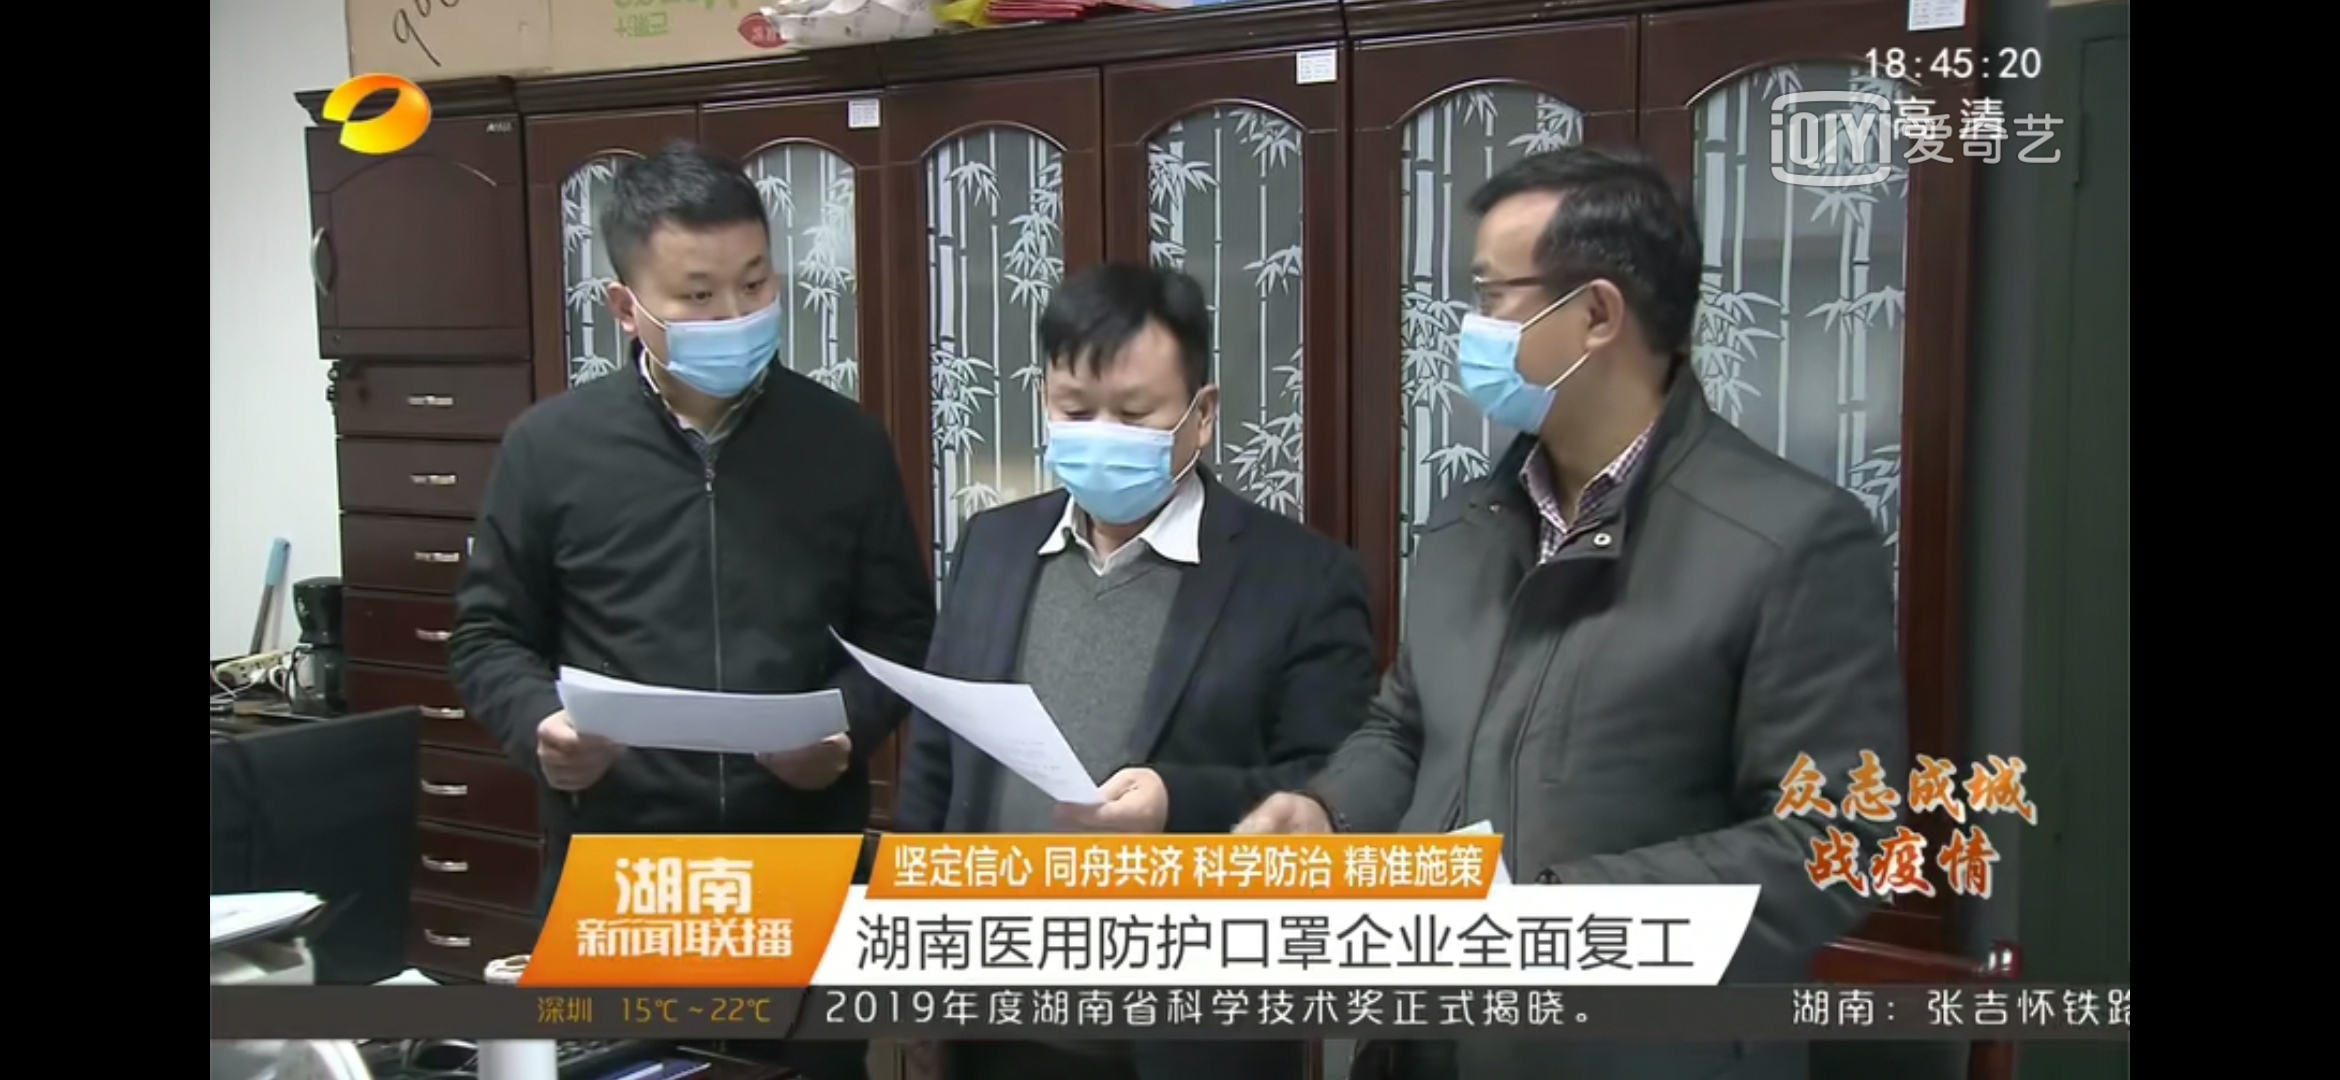correctlyWear: (1457, 239, 1627, 439), (603, 228, 789, 401), (1039, 362, 1222, 524)
